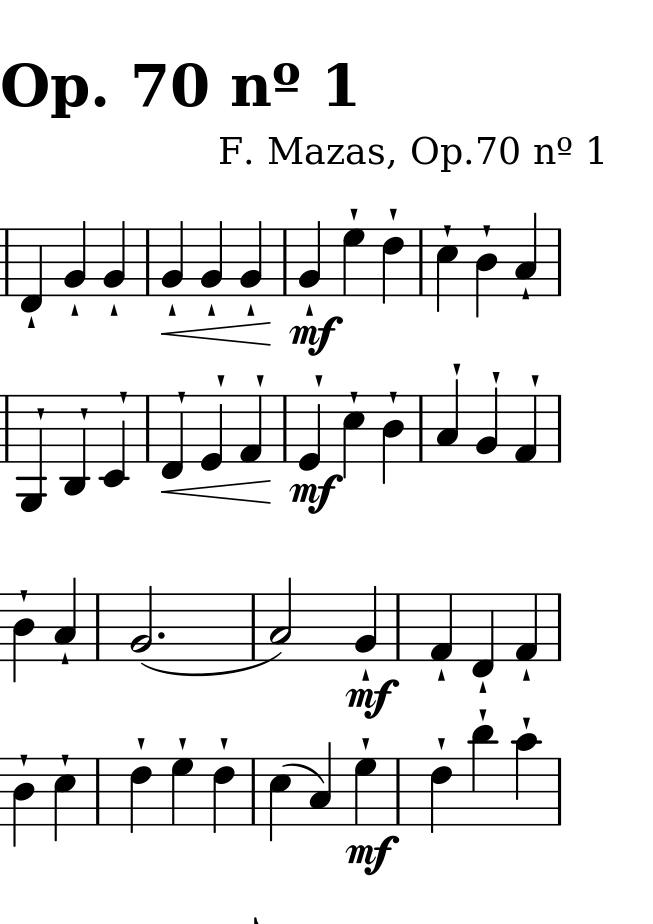4_-1: (470, 591, 497, 680), (159, 395, 186, 479), (19, 227, 45, 312)
4_-2: (100, 393, 128, 488)
4_-3: (60, 392, 89, 497)
4_-5: (18, 392, 45, 515)
4_0: (296, 392, 322, 473), (200, 392, 223, 473)
4_1: (513, 591, 540, 664), (514, 394, 541, 466), (428, 590, 454, 663), (240, 393, 265, 464)
4_10: (511, 731, 541, 827)
4_11: (469, 723, 501, 827)
4_2: (63, 218, 90, 299), (130, 582, 156, 664), (238, 218, 264, 299), (199, 218, 224, 299), (298, 219, 323, 300), (354, 582, 378, 664), (162, 219, 185, 300), (104, 216, 126, 297), (475, 385, 498, 462)
4_3: (433, 378, 461, 463), (307, 741, 333, 827), (54, 577, 79, 663), (514, 212, 538, 300), (271, 576, 294, 662)
4_4: (12, 757, 38, 847), (474, 225, 499, 318), (12, 592, 36, 685), (382, 393, 404, 484)
4_5: (433, 226, 459, 315), (341, 394, 368, 479), (268, 756, 292, 844), (53, 757, 77, 842)
4_6: (379, 226, 404, 308), (428, 757, 453, 834), (128, 758, 151, 836), (211, 757, 234, 832)
4_7: (339, 227, 366, 300), (353, 754, 379, 828), (169, 756, 194, 828)
Crescendo_hairpin: (160, 320, 272, 349), (160, 478, 271, 504)
Marcato_above: (360, 667, 370, 682)
Single_barline: (550, 757, 567, 828), (88, 757, 106, 824), (245, 758, 262, 825), (551, 228, 567, 298), (552, 592, 567, 665), (140, 229, 156, 297), (391, 594, 407, 662), (413, 229, 429, 295), (1, 229, 16, 298), (278, 228, 293, 296), (91, 594, 106, 661), (552, 394, 566, 463), (391, 758, 405, 825), (246, 595, 261, 657), (414, 396, 428, 461), (1, 395, 14, 463), (279, 395, 292, 462), (140, 398, 154, 459)
Slur: (140, 653, 287, 677), (283, 762, 321, 783)
Staccatissimo: (23, 315, 37, 332), (106, 303, 121, 318), (205, 302, 218, 317), (520, 286, 532, 302), (348, 206, 359, 222), (177, 736, 188, 752), (60, 753, 71, 769), (59, 650, 69, 667), (477, 678, 487, 695), (304, 303, 316, 317), (521, 715, 532, 730), (136, 736, 147, 751), (19, 586, 28, 604), (452, 362, 462, 378), (361, 736, 371, 752), (349, 390, 360, 404), (436, 736, 447, 750), (521, 667, 530, 684), (69, 303, 79, 318), (388, 206, 398, 221), (530, 373, 540, 388), (118, 390, 128, 405), (35, 406, 44, 422), (167, 303, 177, 317), (442, 223, 452, 237), (388, 390, 398, 404), (216, 373, 226, 387), (177, 390, 187, 404), (18, 753, 28, 767), (482, 222, 491, 237), (491, 368, 500, 383), (314, 372, 323, 387), (436, 668, 445, 683), (479, 707, 488, 722), (219, 736, 228, 751), (246, 303, 256, 316), (256, 373, 265, 387), (79, 406, 87, 420)
dot: (155, 629, 166, 642)
mf: (345, 671, 402, 727), (341, 833, 403, 880), (289, 314, 340, 358), (286, 471, 336, 513)
